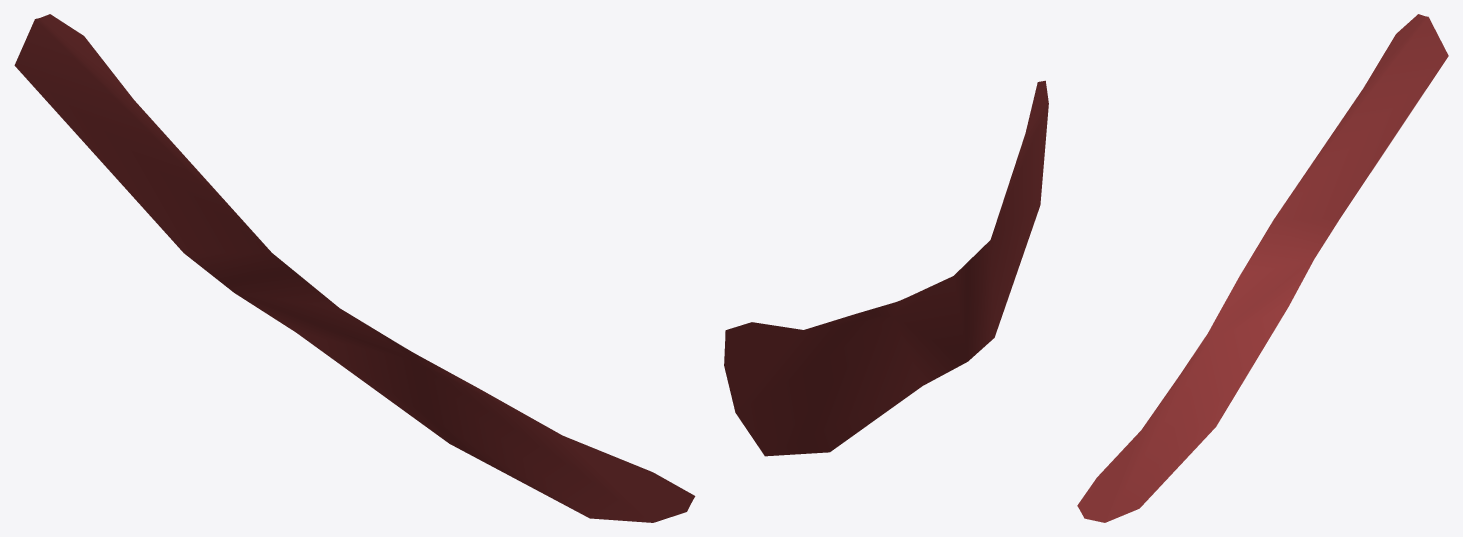
The model's file is depressor-labii-inferioris-or.glb.
3 views of the same model, side by side, from view 1: azimuth 30°, elevation 25°; view 2: azimuth 150°, elevation 25°; view 3: azimuth 270°, elevation 25° (orthographic). The views are drawn at different scales.
Visible parts, largest first — view 1: Depressor labii inferioris.or; view 2: Depressor labii inferioris.or; view 3: Depressor labii inferioris.or.
Part boxes in pixels (bbox=[...]): Depressor labii inferioris.or: bbox=[14, 14, 695, 522]; Depressor labii inferioris.or: bbox=[724, 80, 1048, 456]; Depressor labii inferioris.or: bbox=[1077, 14, 1448, 522].
Size of the model in its own units: 0.0187 by 0.0187 by 0.0176.
